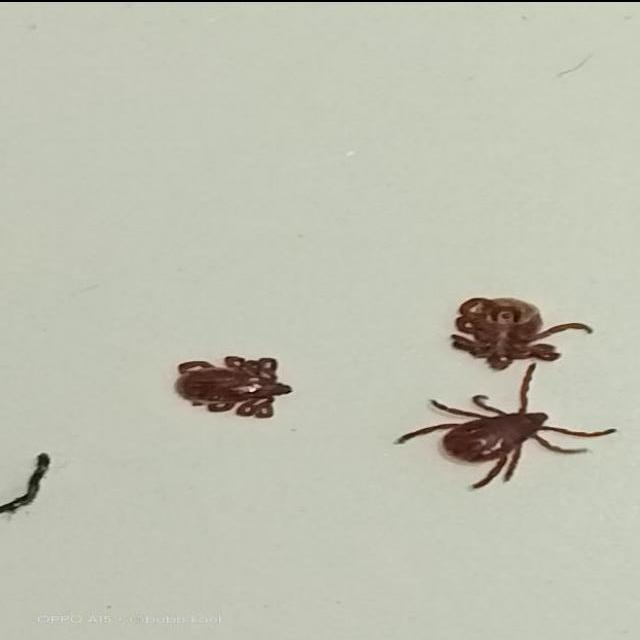Rhipicephalus Sanguineus-M: (171, 354, 293, 421)
